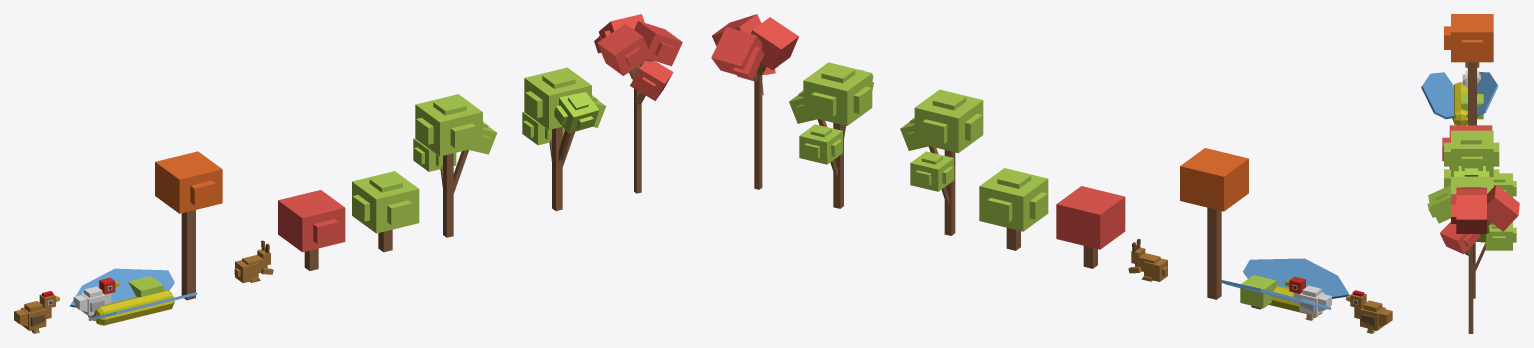
Rendered from kupukupu1.fbx.
3 views of the same model, side by side, from view 1: azimuth 30°, elevation 25°; view 2: azimuth 150°, elevation 25°; view 3: azimuth 270°, elevation 25° (orthographic). The views are drawn at different scales.
Parts seen in each view (by area): view 1: Cube.008, Cube.007, Cube.009, Cube.002, Cube.005, Cube.004, Plane.001, Cube.006, Cube.001, Cube.003, Cube; view 2: Cube.007, Cube.008, Cube.009, Cube.002, Cube.005, Cube.004, Plane.001, Cube.006, Cube.001, Cube.003, Cube; view 3: Cube.009, Cube.002, Cube.007, Cube.008, Plane.001, Cube.004, Cube, Cube.005, Cube.001.
Boxes of the visible parts, <box> form: Cube.008: <box>522,67,606,210</box>; Cube.007: <box>413,94,496,237</box>; Cube.009: <box>594,14,682,193</box>; Cube.002: <box>155,151,222,300</box>; Cube.005: <box>352,171,419,252</box>; Cube.004: <box>278,190,345,270</box>; Plane.001: <box>70,268,197,325</box>; Cube.006: <box>14,291,59,333</box>; Cube.001: <box>73,277,119,320</box>; Cube.003: <box>234,240,273,283</box>; Cube: <box>128,276,163,297</box>; Cube.007: <box>900,89,983,235</box>; Cube.008: <box>789,62,873,208</box>; Cube.009: <box>711,14,798,189</box>; Cube.002: <box>1180,148,1248,299</box>; Cube.005: <box>979,168,1048,250</box>; Cube.004: <box>1056,186,1125,268</box>; Plane.001: <box>1220,258,1349,315</box>; Cube.006: <box>1346,290,1392,333</box>; Cube.001: <box>1285,276,1331,320</box>; Cube.003: <box>1128,239,1167,281</box>; Cube: <box>1240,275,1276,309</box>; Cube.009: <box>1440,185,1519,333</box>; Cube.002: <box>1444,14,1493,125</box>; Cube.007: <box>1444,130,1516,197</box>; Cube.008: <box>1427,177,1516,298</box>; Plane.001: <box>1421,72,1498,125</box>; Cube.004: <box>1442,125,1492,169</box>; Cube: <box>1461,94,1483,119</box>; Cube.005: <box>1444,169,1499,187</box>; Cube.001: <box>1462,68,1480,87</box>.
Bounding box in the file's own units: 7627 × 1819 × 1135.
